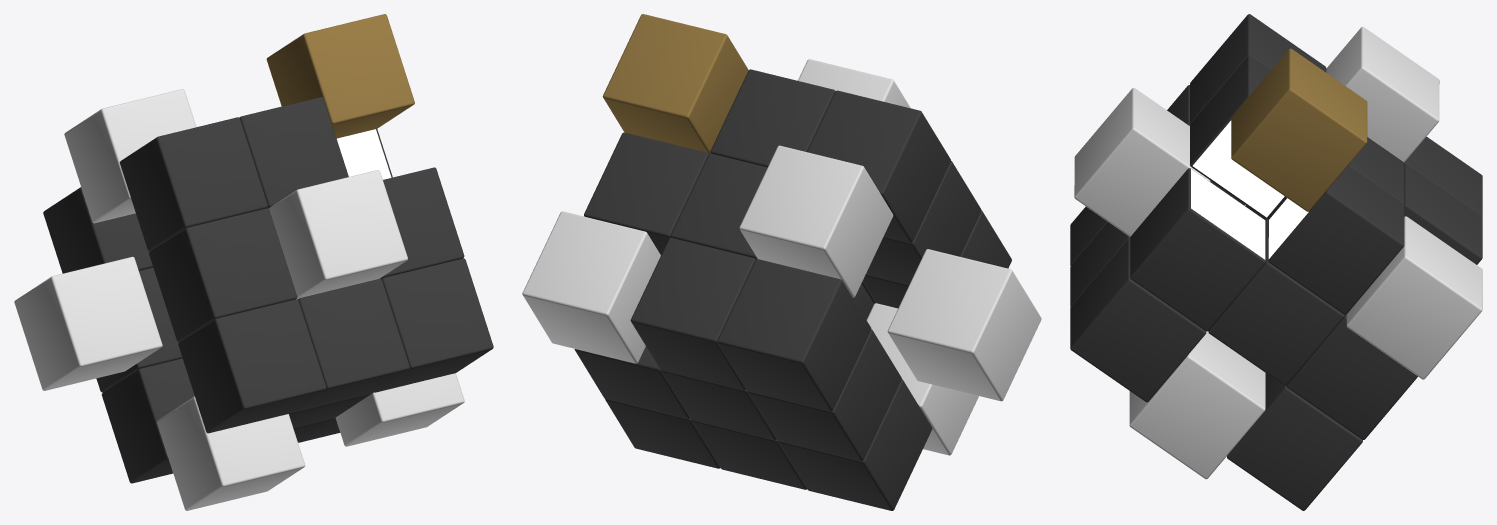
File: modelDraco7.gltf
3 renders of one model, left to right at view 1: azimuth 30°, elevation 25°; view 2: azimuth 150°, elevation 25°; view 3: azimuth 270°, elevation 25°, orthographic. The views are drawn at different scales.
Visible parts, largest first — view 1: ChamferBox184, ChamferBox187, ChamferBox183, ChamferBox182, ChamferBox185, ChamferBox188, ChamferBox186, Group60444; view 2: ChamferBox184, ChamferBox187, ChamferBox188, ChamferBox189, ChamferBox182, ChamferBox185, ChamferBox183; view 3: ChamferBox184, ChamferBox182, ChamferBox189, ChamferBox186, ChamferBox183, ChamferBox188, Group60444.
Boxes of the visible parts, bbox=[...] form: ChamferBox184: bbox=[43, 97, 493, 483]; ChamferBox187: bbox=[14, 256, 162, 390]; ChamferBox183: bbox=[268, 170, 407, 299]; ChamferBox182: bbox=[266, 14, 414, 138]; ChamferBox185: bbox=[157, 396, 305, 510]; ChamferBox188: bbox=[64, 89, 196, 223]; ChamferBox186: bbox=[335, 373, 464, 446]; Group60444: bbox=[337, 129, 391, 179]; ChamferBox184: bbox=[574, 69, 1011, 510]; ChamferBox187: bbox=[887, 249, 1041, 401]; ChamferBox188: bbox=[739, 145, 893, 297]; ChamferBox189: bbox=[522, 211, 660, 363]; ChamferBox182: bbox=[602, 14, 748, 153]; ChamferBox185: bbox=[866, 303, 978, 455]; ChamferBox183: bbox=[798, 59, 910, 108]; ChamferBox184: bbox=[1070, 14, 1482, 510]; ChamferBox182: bbox=[1231, 48, 1367, 211]; ChamferBox189: bbox=[1346, 216, 1482, 379]; ChamferBox186: bbox=[1129, 331, 1265, 479]; ChamferBox183: bbox=[1074, 88, 1210, 236]; ChamferBox188: bbox=[1326, 27, 1439, 162]; Group60444: bbox=[1191, 120, 1308, 259].
Bounding box in the file's own units: 192 × 206 × 182.
